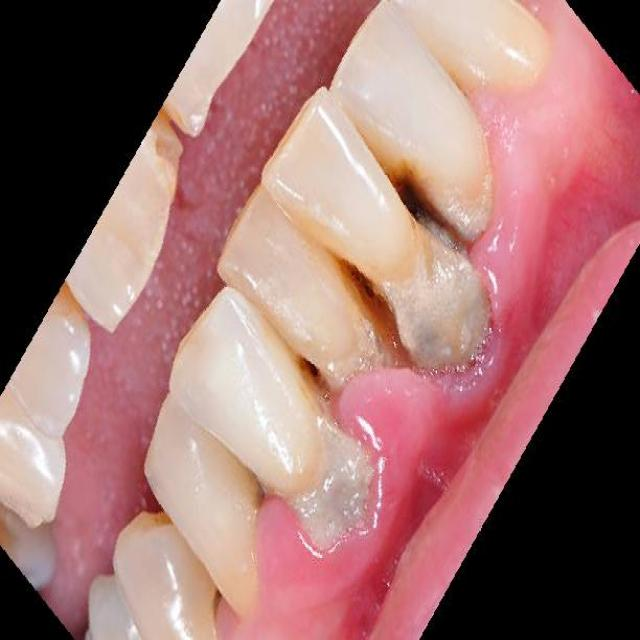caries: (332, 238, 391, 331), (387, 158, 451, 225), (285, 335, 342, 410)
